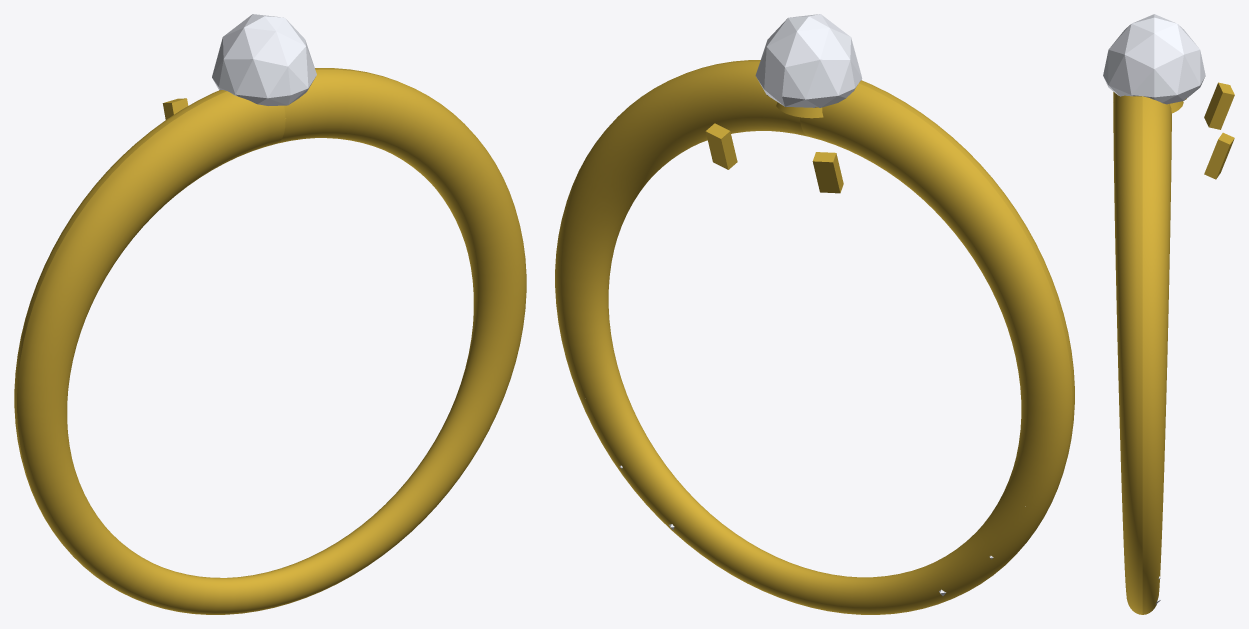
File: ring-pave-yellow.glb
3 views of the same model, side by side, from view 1: azimuth 30°, elevation 25°; view 2: azimuth 150°, elevation 25°; view 3: azimuth 270°, elevation 25° (orthographic). The views are drawn at different scales.
Size of the model in its own units: 1.94 by 2.15 by 0.4496.
